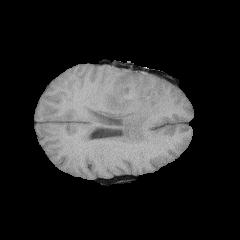glioma: (96, 68, 165, 140)
